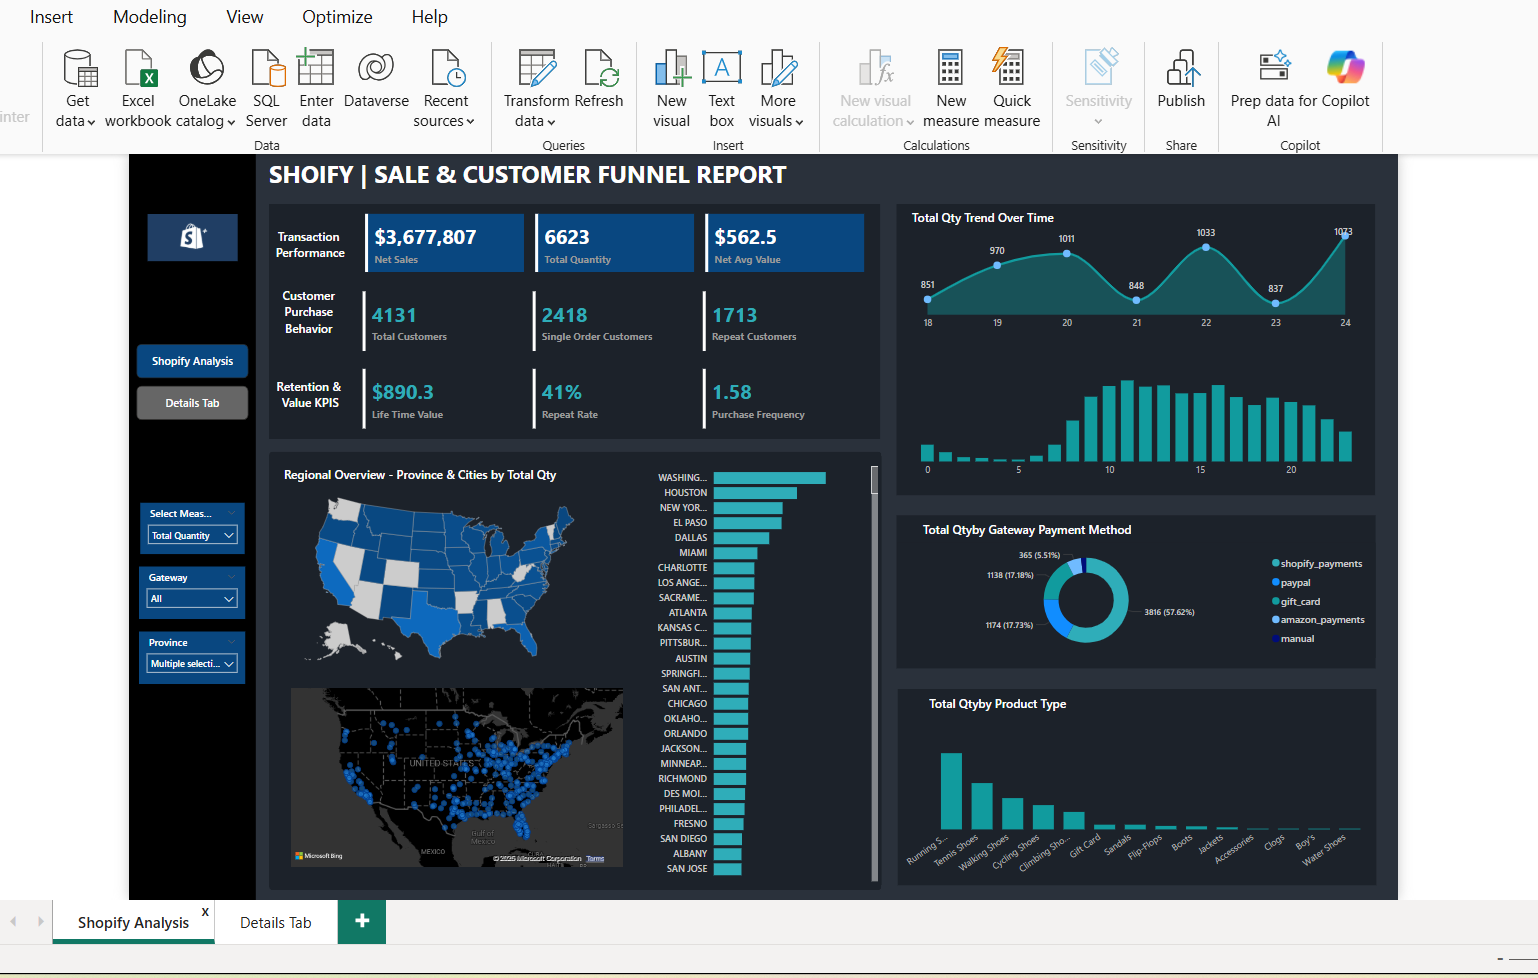

What the dashboard file says about the page in this screenshot:
{"tool":"powerbi","page":{"name":"Shopify Analysis","canvas":[1700,1000],"ordinal":0},"visuals":[{"type":"shape","box":[0,0,170,1000],"z":0},{"type":"textbox","box":[182.6,0,708.8,58.6],"z":1000},{"type":"shape","box":[187.7,67,819.4,315],"z":2000},{"type":"cardVisual","fields":{"Data":["shopify_sales.Net Sales","shopify_sales.Total Quantity","shopify_sales.Net Avg Value"]},"box":[311.7,75.4,680.3,88.8],"z":3000},{"type":"card","fields":{"Values":["shopify_sales.Transaction Perf"]},"box":[182.1,74.8,120.8,90.1],"z":4000},{"type":"cardVisual","fields":{"Data":["shopify_sales.Total Customers","shopify_sales.Single Order Customers","shopify_sales.Repeat Customers"]},"box":[308.6,178.9,680.5,90.1],"z":5000},{"type":"card","fields":{"Values":["shopify_sales.Customer Purchase Behavior"]},"box":[174.4,164.9,138,88.2],"z":6000},{"type":"cardVisual","fields":{"Data":["shopify_sales.Life Time Value","shopify_sales.Repeat Rate","shopify_sales.Purchase Frequency"]},"box":[308.6,283.7,680.5,90.1],"z":7000},{"type":"card","fields":{"Values":["shopify_sales.Retention & Value KPIS"]},"box":[174.4,270.3,138,103.5],"z":8000},{"type":"shape","box":[187.7,398.8,821,588.1],"z":9000},{"type":"slicer","fields":{"Values":["Select Measure.Select Measure"]},"box":[15.8,466.8,140.4,68.4],"z":10000},{"type":"clusteredBarChart","fields":{"Y":["shopify_sales.Total Quantity"],"Category":["shopify_sales.CITY"]},"box":[692,405.5,316.7,574.7],"z":11000},{"type":"shape","box":[1028.8,67,641.8,390.4],"z":12000},{"type":"areaChart","fields":{"Y":["shopify_sales.Total Quantity"],"Category":["shopify_sales.Invoice Date.Variation.Date Hierarchy.Day"]},"box":[1055.6,85.5,589.8,159.2],"z":13000},{"type":"columnChart","fields":{"Y":["shopify_sales.Total Quantity"],"Category":["shopify_sales.Hour"]},"box":[1055.6,269.8,589.8,172.6],"z":14000},{"type":"card","fields":{"Values":["shopify_sales.Map Title"]},"box":[187.8,414.1,405.3,36.8],"z":15000},{"type":"card","fields":{"Values":["shopify_sales.Trend Title"]},"box":[989.7,64.9,308.8,43.9],"z":16000},{"type":"shape","box":[1028.3,484.3,642.2,205.3],"z":17000},{"type":"donutChart","fields":{"Y":["shopify_sales.Total Quantity"],"Category":["shopify_sales.Gateway"]},"box":[1030,521.2,640.5,154.4],"z":18000},{"type":"shape","box":[1030.5,717.2,641.8,263.1],"z":19000},{"type":"columnChart","fields":{"Y":["shopify_sales.Total Quantity"],"Category":["shopify_sales.Product Type"]},"box":[1031.8,761.6,640.5,215.8],"z":20000},{"type":"card","fields":{"Values":["shopify_sales.Gateway Title"]},"box":[1028.3,484.3,351,43.9],"z":21000},{"type":"card","fields":{"Values":["shopify_sales.Product Title"]},"box":[993.2,717.7,342.2,43.9],"z":22000},{"type":"slicer","fields":{"Values":["shopify_sales.Gateway"]},"box":[14,552.7,142.1,70.2],"z":23000},{"type":"slicer","fields":{"Values":["shopify_sales.Billing Address Province"]},"box":[14,640.5,142.1,70.2],"z":24000},{"type":"pageNavigator","box":[10.5,205.3,150.9,103.5],"z":25000},{"type":"map","fields":{"Category":["shopify_sales.Location"]},"box":[213,710.5,453.9,249.6],"z":26000},{"type":"shapeMap","fields":{"Value":["shopify_sales.Total Quantity"],"Category":["shopify_sales.Billing Address Province"]},"box":[188.5,443.4,453.9,251.4],"z":27000}]}

Visuals, with their boxes on the page's 1700x1000 design canvas (x1, y1, x2, y2). These are canvas units, not pixel positions in the 1538x978 screenshot, which may show the page scaled, cropped or inside an application window:
shape: [0,0,170,1000]
textbox: [183,0,891,59]
shape: [188,67,1007,382]
cardVisual - shopify_sales.Net Sales x shopify_sales.Total Quantity: [312,75,992,164]
card - shopify_sales.Transaction Perf: [182,75,303,165]
cardVisual - shopify_sales.Total Customers x shopify_sales.Single Order Customers: [309,179,989,269]
card - shopify_sales.Customer Purchase Behavior: [174,165,312,253]
cardVisual - shopify_sales.Life Time Value x shopify_sales.Repeat Rate: [309,284,989,374]
card - shopify_sales.Retention & Value KPIS: [174,270,312,374]
shape: [188,399,1009,987]
slicer - Select Measure.Select Measure: [16,467,156,535]
clusteredBarChart - shopify_sales.Total Quantity x shopify_sales.CITY: [692,406,1009,980]
shape: [1029,67,1671,457]
areaChart - shopify_sales.Total Quantity x shopify_sales.Invoice Date.Variation.Date Hierarchy.Day: [1056,86,1645,245]
columnChart - shopify_sales.Total Quantity x shopify_sales.Hour: [1056,270,1645,442]
card - shopify_sales.Map Title: [188,414,593,451]
card - shopify_sales.Trend Title: [990,65,1298,109]
shape: [1028,484,1670,690]
donutChart - shopify_sales.Total Quantity x shopify_sales.Gateway: [1030,521,1670,676]
shape: [1030,717,1672,980]
columnChart - shopify_sales.Total Quantity x shopify_sales.Product Type: [1032,762,1672,977]
card - shopify_sales.Gateway Title: [1028,484,1379,528]
card - shopify_sales.Product Title: [993,718,1335,762]
slicer - shopify_sales.Gateway: [14,553,156,623]
slicer - shopify_sales.Billing Address Province: [14,640,156,711]
pageNavigator: [10,205,161,309]
map - shopify_sales.Location: [213,710,667,960]
shapeMap - shopify_sales.Total Quantity x shopify_sales.Billing Address Province: [188,443,642,695]
